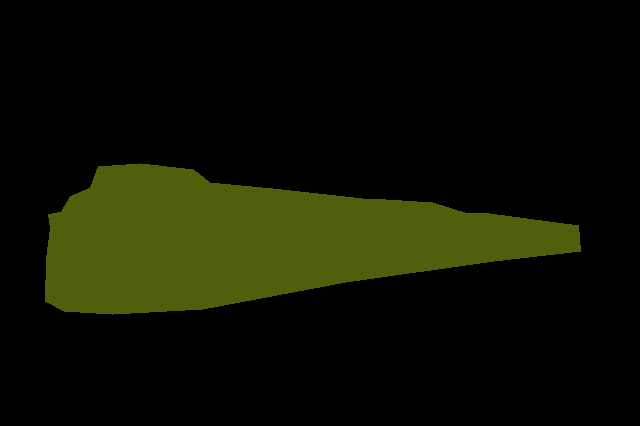Train: (45, 163, 580, 315)
